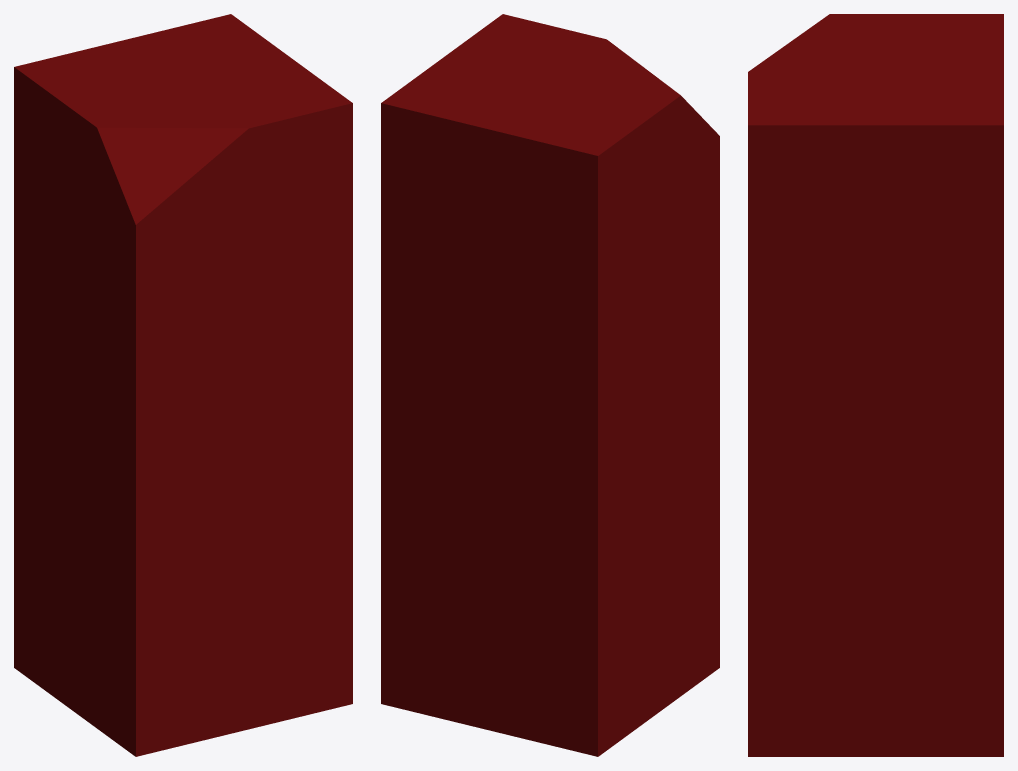
3 renders of one model, left to right at view 1: azimuth 30°, elevation 25°; view 2: azimuth 150°, elevation 25°; view 3: azimuth 270°, elevation 25°, orthographic. The views are drawn at different scales.
Visible parts, largest first — view 1: Box001; view 2: Box001; view 3: Box001.
Boxes of the visible parts, x1=… form: Box001: x1=14, y1=14, x2=352, y2=756; Box001: x1=381, y1=14, x2=719, y2=756; Box001: x1=748, y1=14, x2=1003, y2=756.
Size of the model in its own units: 6.37 by 16.84 by 6.18.
